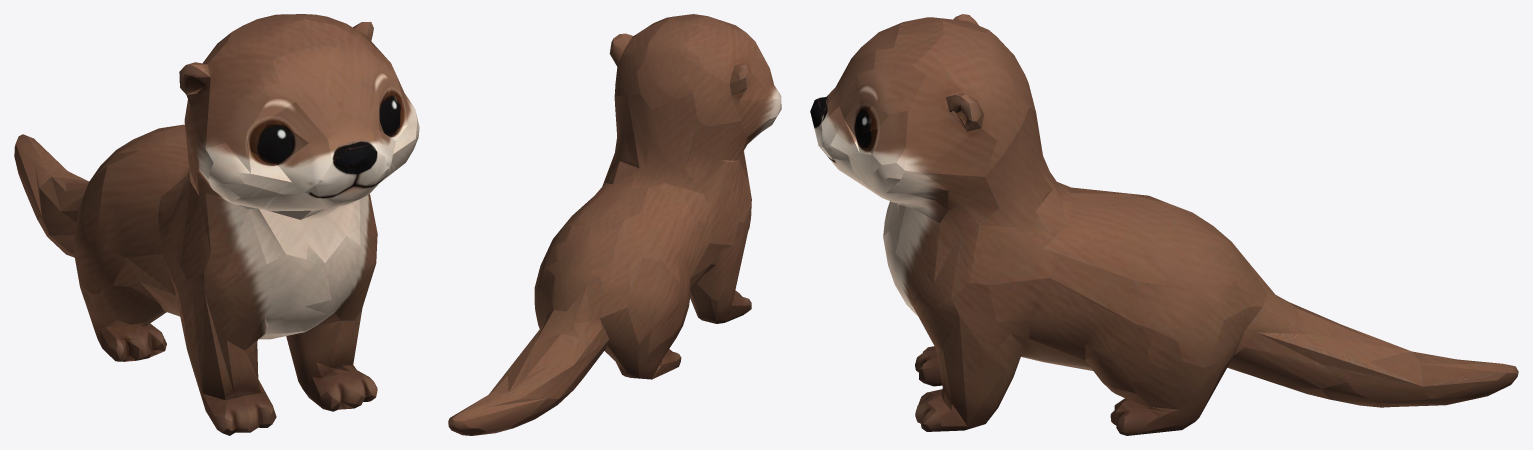
The model's file is toy-otter.glb.
The picture shows the model from 3 angles, left to right: view 1: azimuth 30°, elevation 25°; view 2: azimuth 150°, elevation 25°; view 3: azimuth 270°, elevation 25°; orthographic projection. The views are drawn at different scales.
Parts seen in each view (by area): view 1: Prize_Batch0; view 2: Prize_Batch0; view 3: Prize_Batch0.
Part boxes in pixels (<box>): Prize_Batch0: <box>14,14,419,435</box>; Prize_Batch0: <box>448,14,781,435</box>; Prize_Batch0: <box>810,14,1518,435</box>.
Size of the model in its own units: 0.0102 by 0.0185 by 0.032.
Materials: 1 (1 with a texture image).
